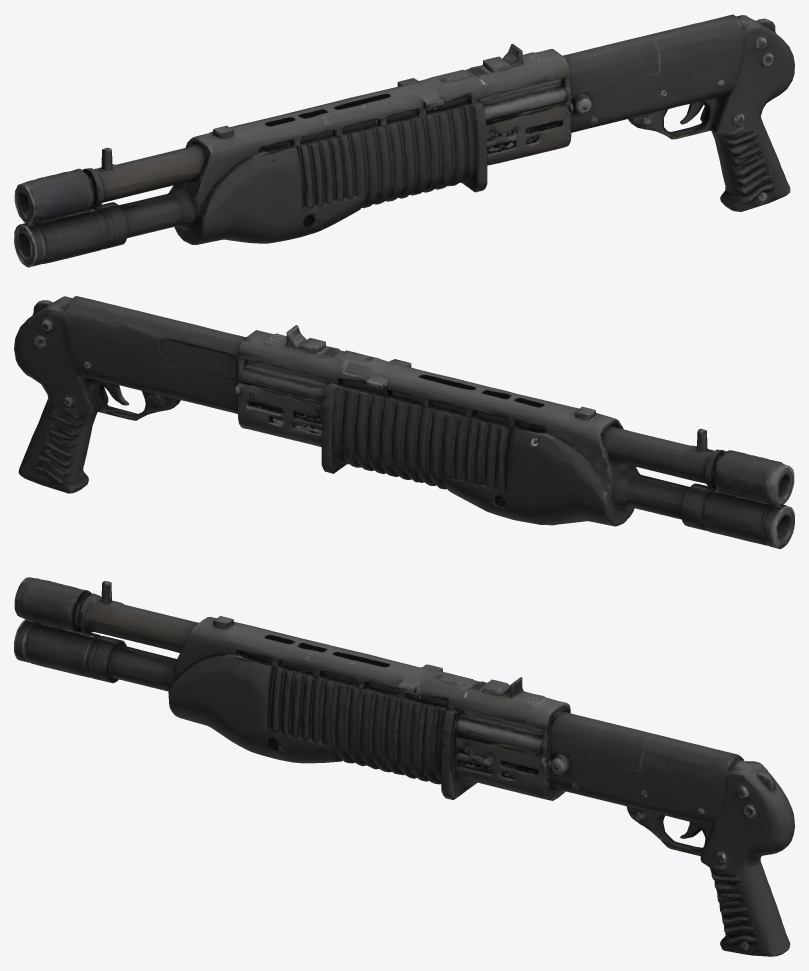
The model's file is spas12.glb.
3 views of the same model, one above another, from view 1: azimuth 30°, elevation 25°; view 2: azimuth 150°, elevation 25°; view 3: azimuth 330°, elevation 25° (orthographic).
Size of the model in its own units: 1.9 by 0.5074 by 0.1633.
Materials: 1 (1 with a texture image).
